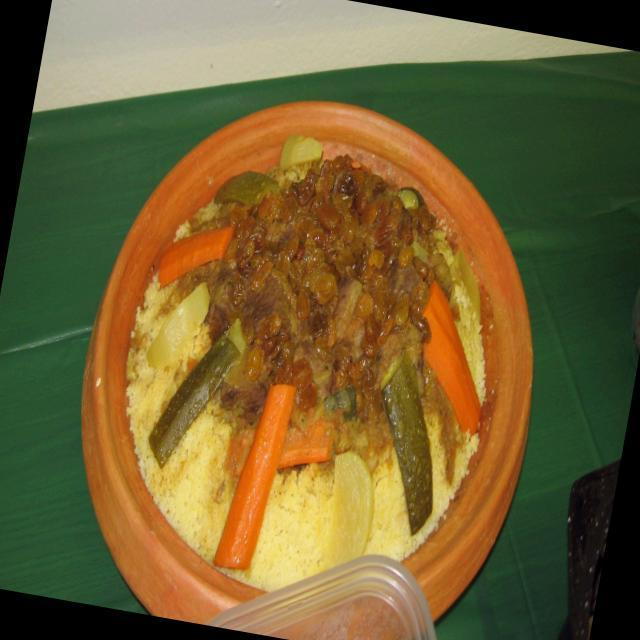Couscous: (68, 74, 571, 640)
